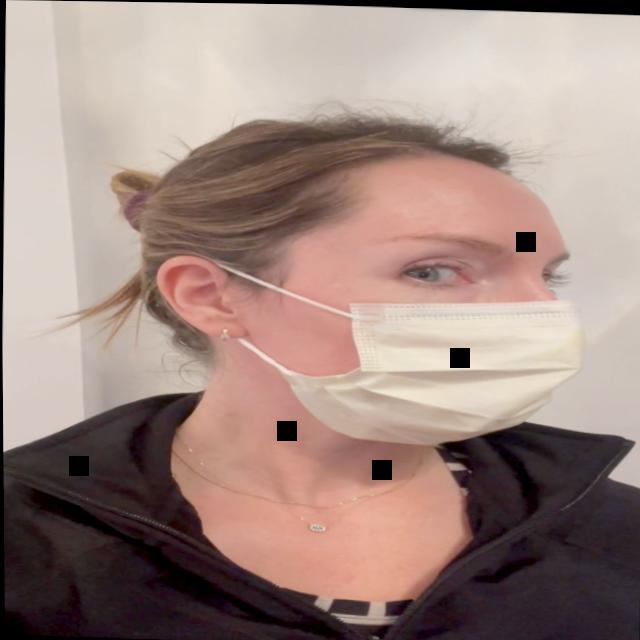Mask: (194, 147, 590, 449)
